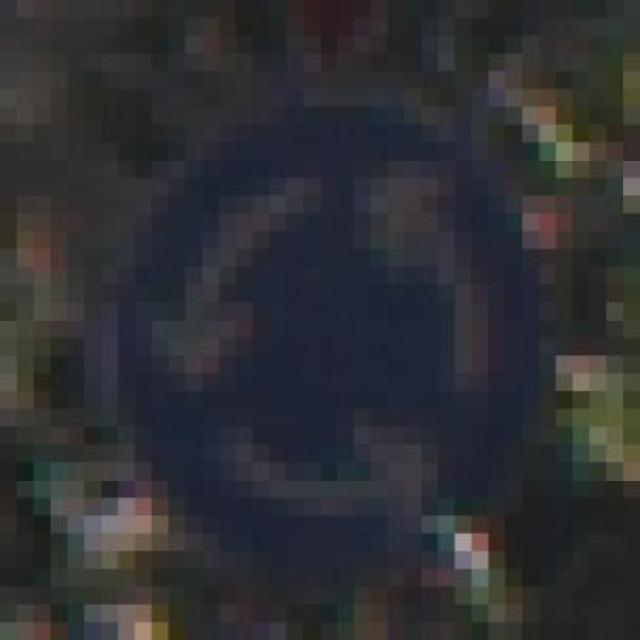Round-About: (84, 71, 573, 569)
